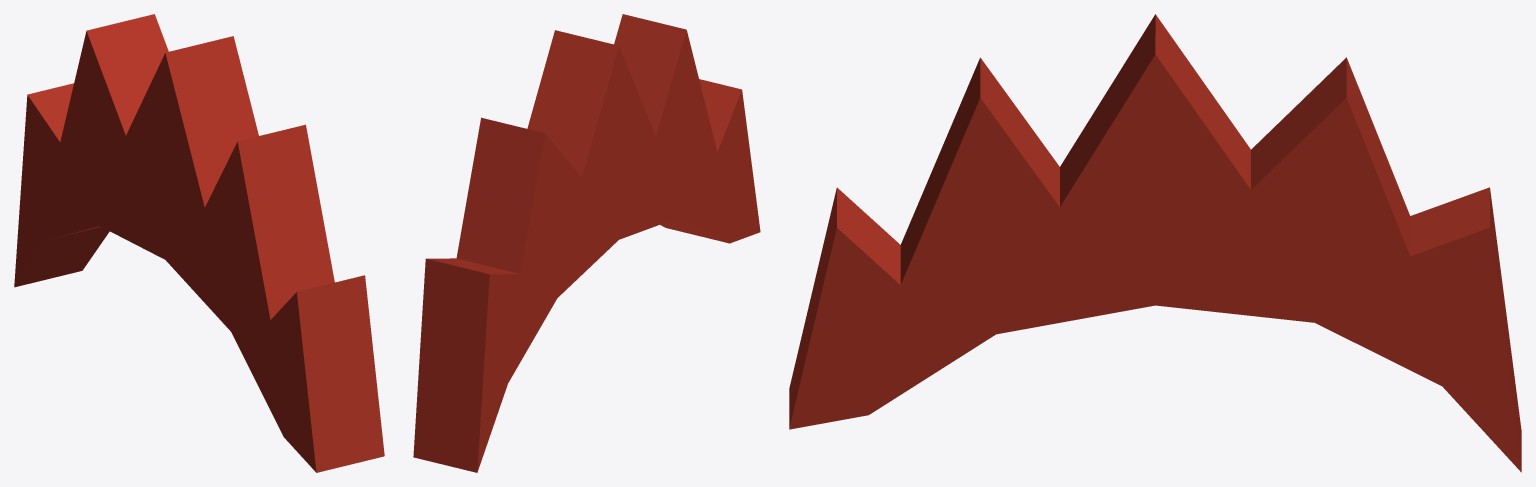
Rendered from mohawk.glb.
The picture shows the model from 3 angles, left to right: view 1: azimuth 30°, elevation 25°; view 2: azimuth 150°, elevation 25°; view 3: azimuth 270°, elevation 25°; orthographic projection. The views are drawn at different scales.
Parts seen in each view (by area): view 1: mh_fin; view 2: mh_fin; view 3: mh_fin.
Boxes of the visible parts, x1,y1,x2,y2 form: mh_fin: (14,14,384,472); mh_fin: (413,14,760,472); mh_fin: (789,14,1521,472).
Size of the model in its own units: 0.03 by 0.145 by 0.23.
